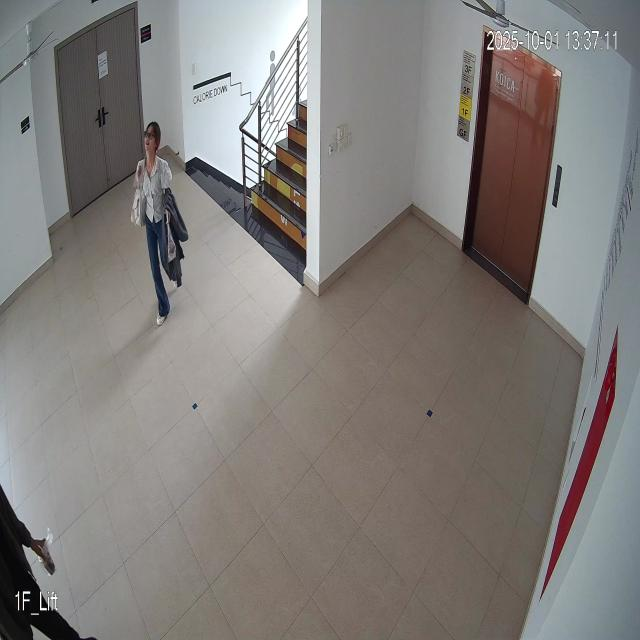face: (141, 118, 162, 160)
